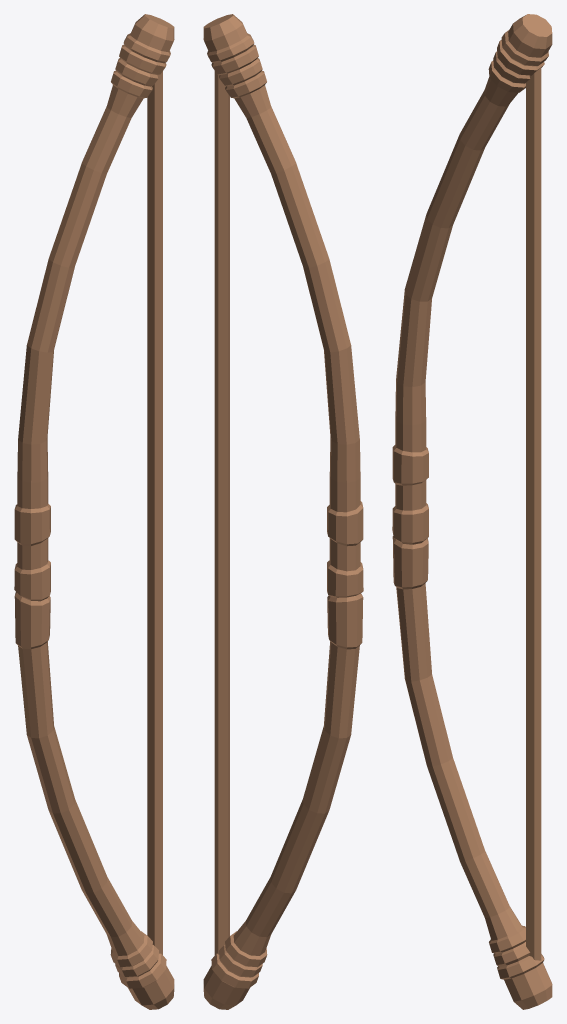
Rendered from Bow.glb.
3 renders of one model, left to right at view 1: azimuth 30°, elevation 25°; view 2: azimuth 150°, elevation 25°; view 3: azimuth 330°, elevation 25°, orthographic.
Parts seen in each view (by area): view 1: Bow; view 2: Bow; view 3: Bow.
Boxes of the visible parts, x1,y1,x2,y2 form: Bow: (14, 14, 174, 1009); Bow: (203, 14, 363, 1009); Bow: (392, 14, 552, 1009).
Size of the model in its own units: 23.15 by 142 by 6.58.
